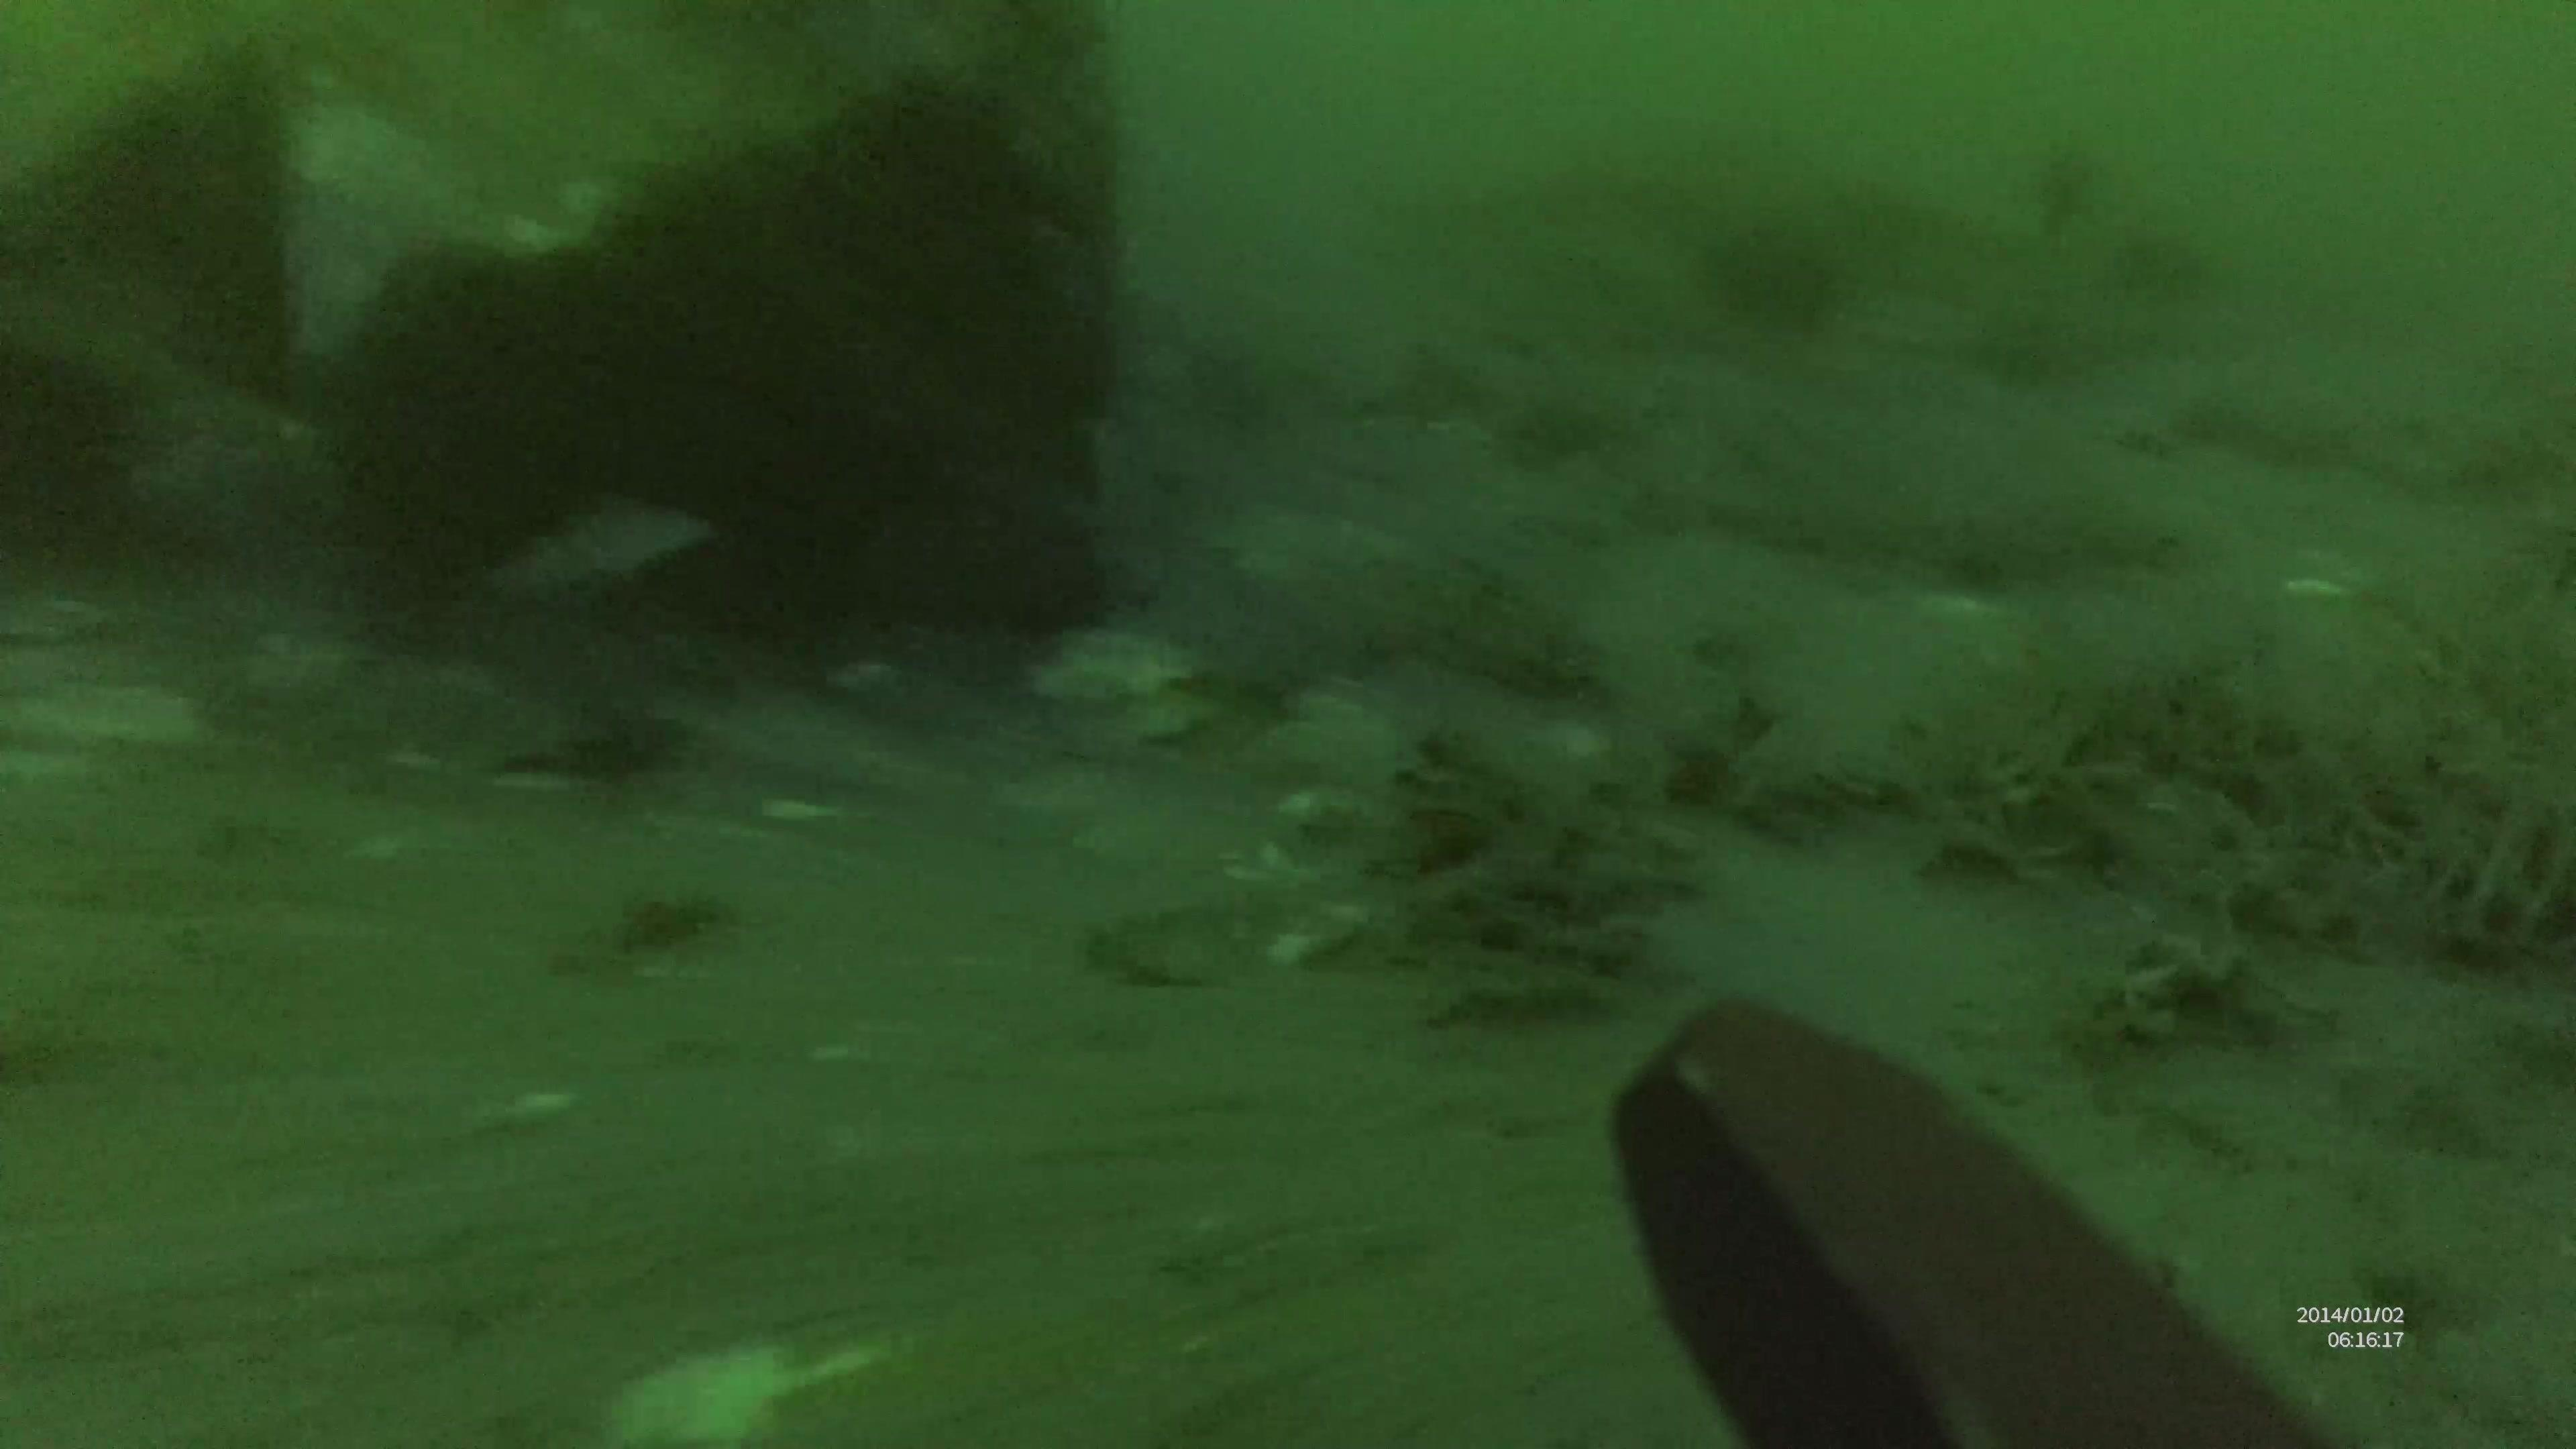scallop: (1099, 872, 1368, 993), (1539, 699, 1635, 775)
starfish: (1205, 492, 1415, 598), (1269, 686, 1435, 805), (1037, 621, 1201, 713), (1076, 678, 1212, 764)
